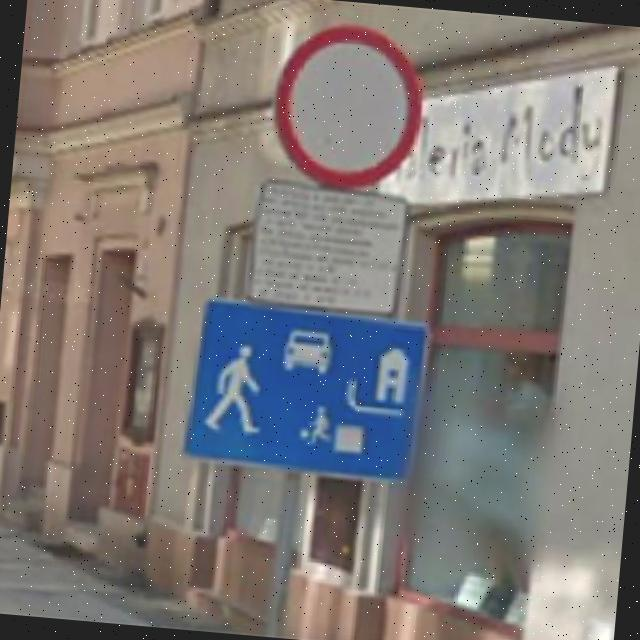Zakaz ruchu w obu kierunkach: (264, 18, 428, 196)
